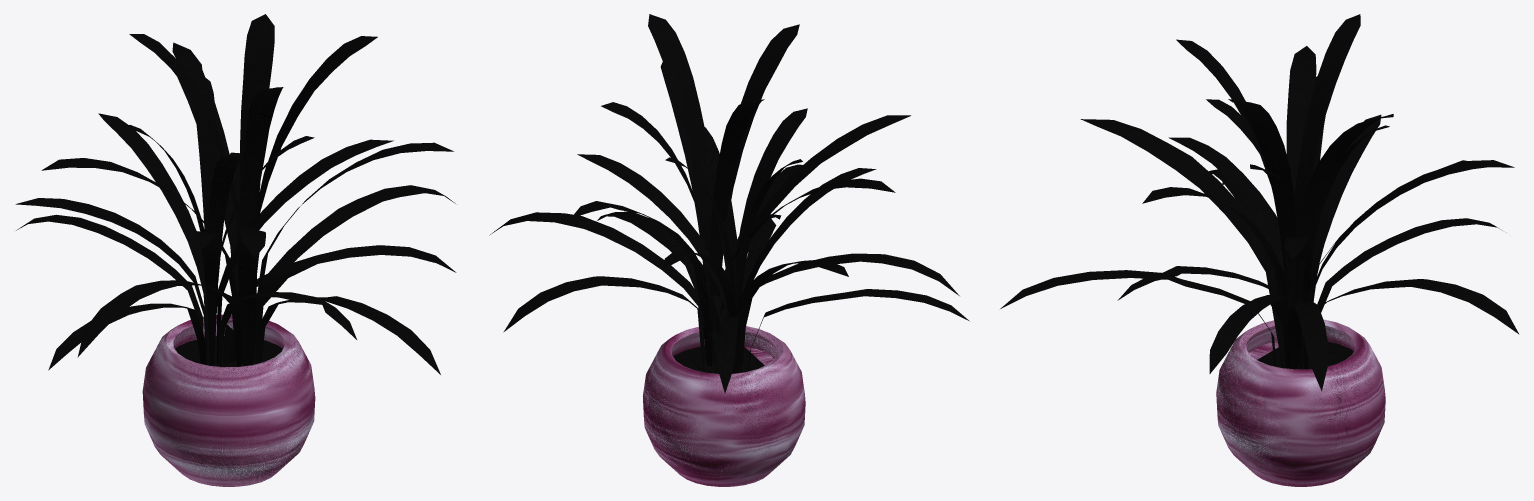
File: plant.obj
3 renders of one model, left to right at view 1: azimuth 30°, elevation 25°; view 2: azimuth 150°, elevation 25°; view 3: azimuth 270°, elevation 25°, orthographic. The views are drawn at different scales.
Parts seen in each view (by area): view 1: potplant2:Potplant2_1, potplant2:Potplant2_2, potplant2:Potplant2_3; view 2: potplant2:Potplant2_1, potplant2:Potplant2_2, potplant2:Potplant2_3; view 3: potplant2:Potplant2_1, potplant2:Potplant2_2, potplant2:Potplant2_3.
Boxes of the visible parts, <box> form: potplant2:Potplant2_1: <box>15,14,456,374</box>; potplant2:Potplant2_2: <box>142,314,315,486</box>; potplant2:Potplant2_3: <box>175,336,282,367</box>; potplant2:Potplant2_1: <box>489,14,968,393</box>; potplant2:Potplant2_2: <box>643,326,805,486</box>; potplant2:Potplant2_3: <box>673,346,764,373</box>; potplant2:Potplant2_1: <box>1000,14,1519,391</box>; potplant2:Potplant2_2: <box>1216,319,1385,486</box>; potplant2:Potplant2_3: <box>1257,341,1353,369</box>.
Bounding box in the file's own units: 96.68 × 85.35 × 96.19.
